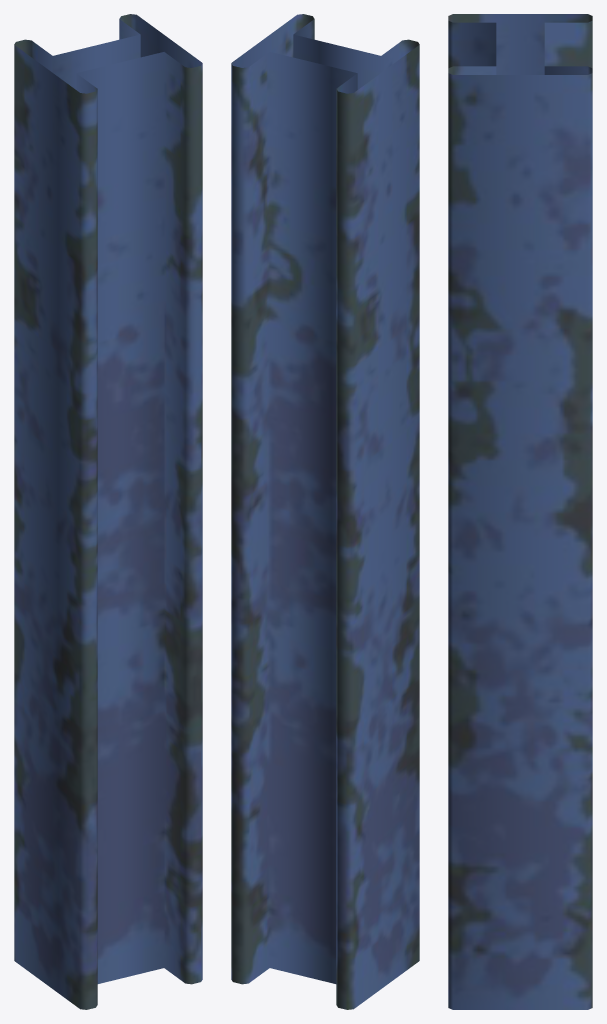
Rendered from VigaH.fbx.
The picture shows the model from 3 angles, left to right: view 1: azimuth 30°, elevation 25°; view 2: azimuth 150°, elevation 25°; view 3: azimuth 270°, elevation 25°; orthographic projection. The views are drawn at different scales.
Parts seen in each view (by area): view 1: VigaH; view 2: VigaH; view 3: VigaH.
Part boxes in pixels (<box>): VigaH: <box>14,14,202,1009</box>; VigaH: <box>231,14,419,1009</box>; VigaH: <box>448,14,592,1009</box>.
Bounding box in the file's own units: 28 × 200 × 28.
